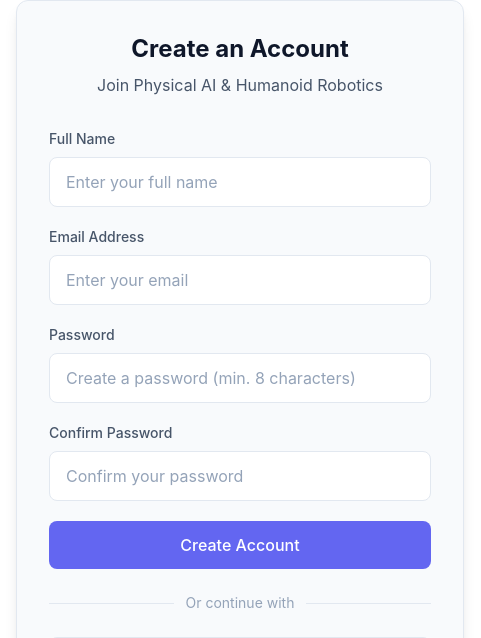
RegisterForm › Form Validation › should show error when passwords do not match
The width and height of the screenshot is (481, 638).
In the field labelled "Full Name": {"x": 240, "y": 182} [49,157,431,207], type "Test User"
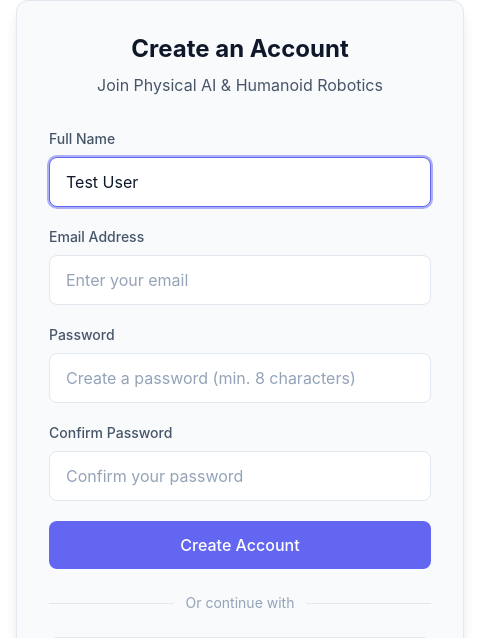
In the field labelled "Email Address": {"x": 240, "y": 280} [49,255,431,305], type "test@example.com"
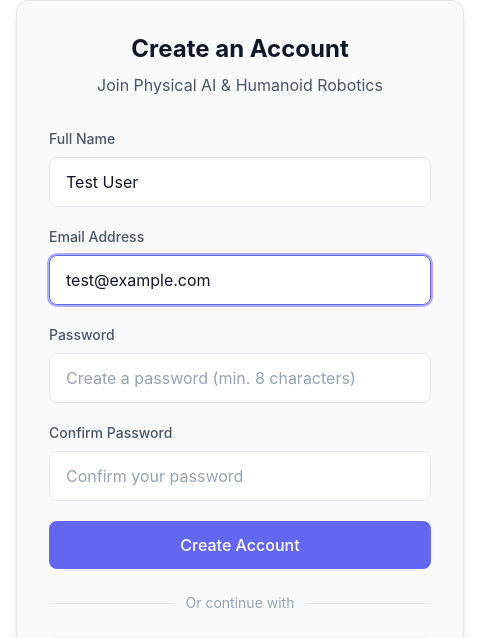
In the password field labelled "Password": {"x": 240, "y": 378} [49,353,431,403], type "ValidPassword123"
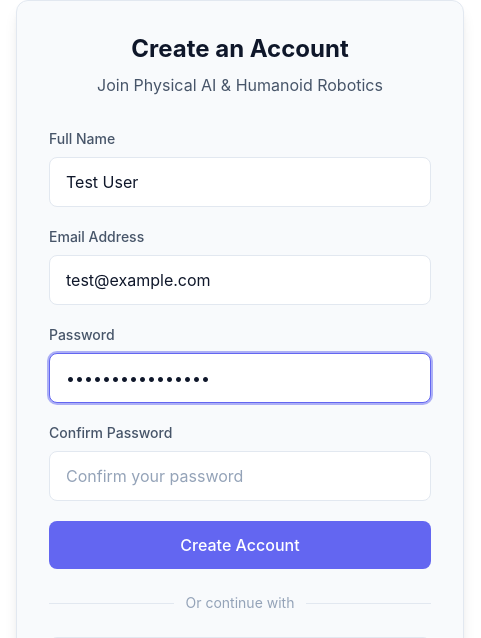
In the password field labelled "Confirm Password": {"x": 240, "y": 476} [49,451,431,501], type "DifferentPassword"
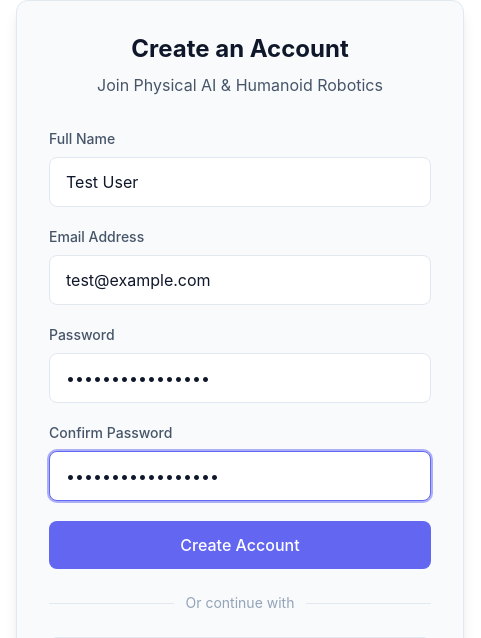
Click the button "Create Account": {"x": 240, "y": 545} [49,521,431,569]
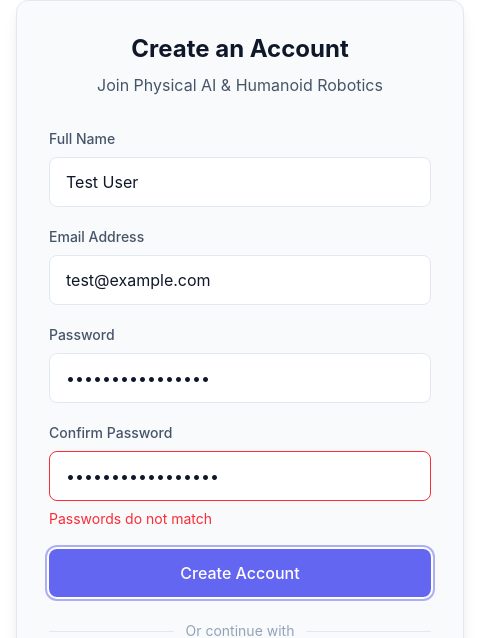
Now the text "Passwords do not match" is shown, box [49,510,212,527]
